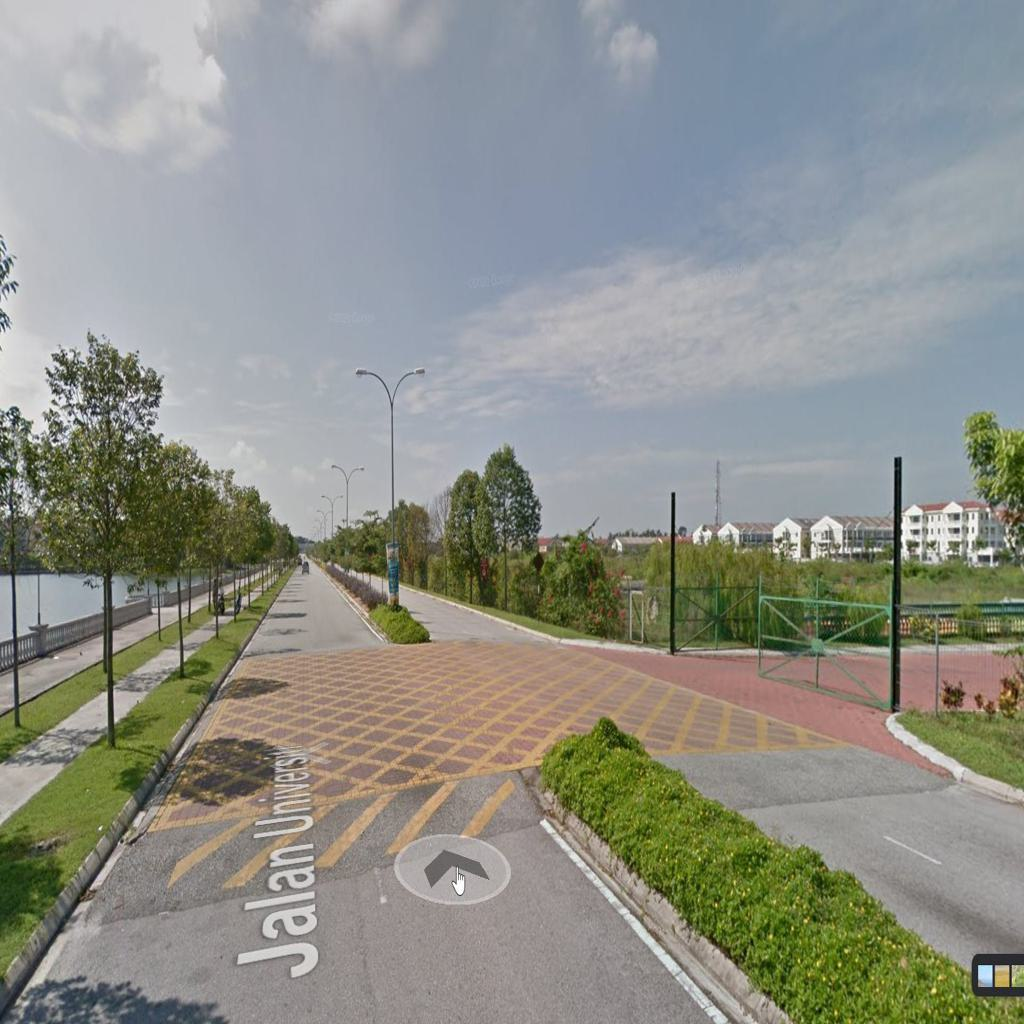Junction: (623, 564, 889, 755)
